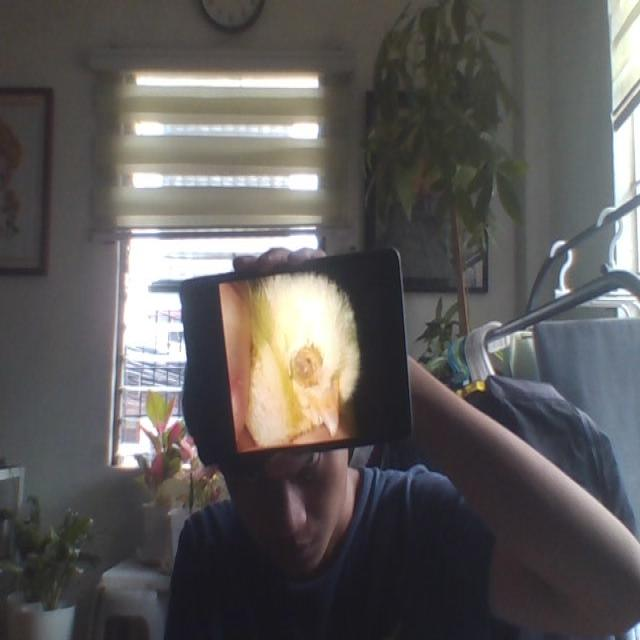Sick: (242, 268, 362, 442)
